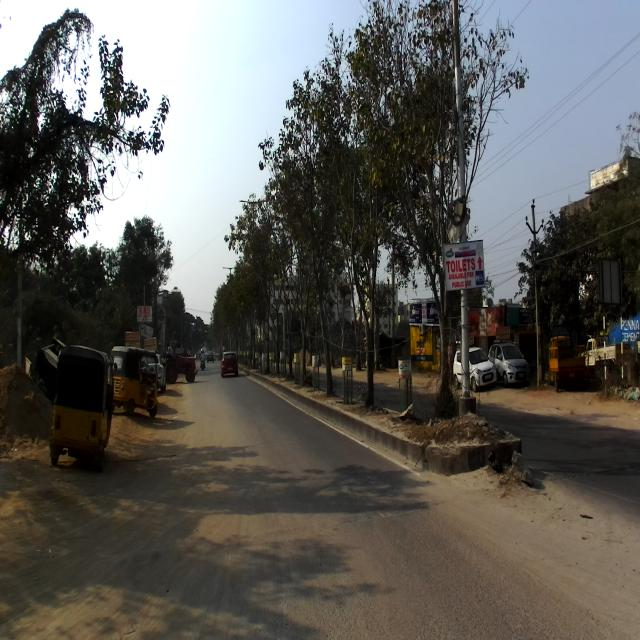auto ahead at: (44, 340, 114, 469), (117, 340, 162, 426)
